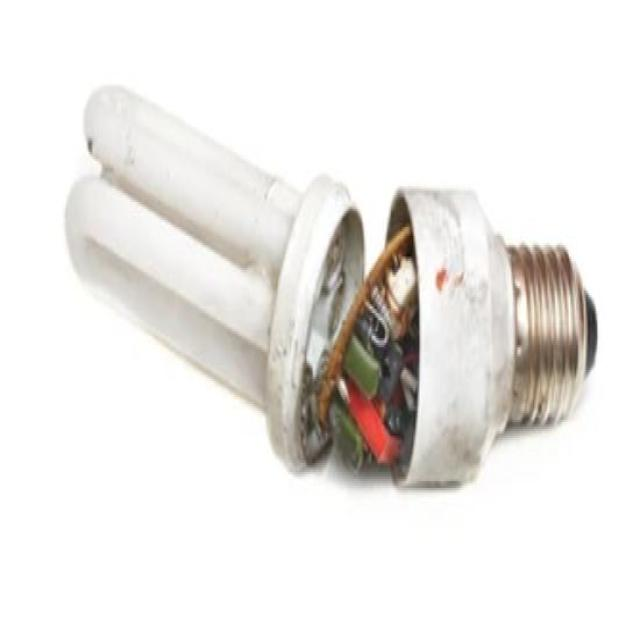electronic: (64, 80, 598, 490), (328, 182, 597, 490)
